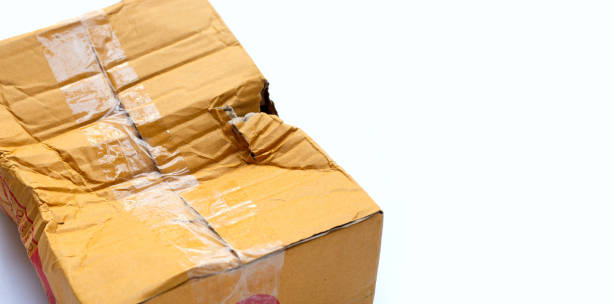damaged package: (0, 107, 237, 244), (215, 72, 343, 174)
